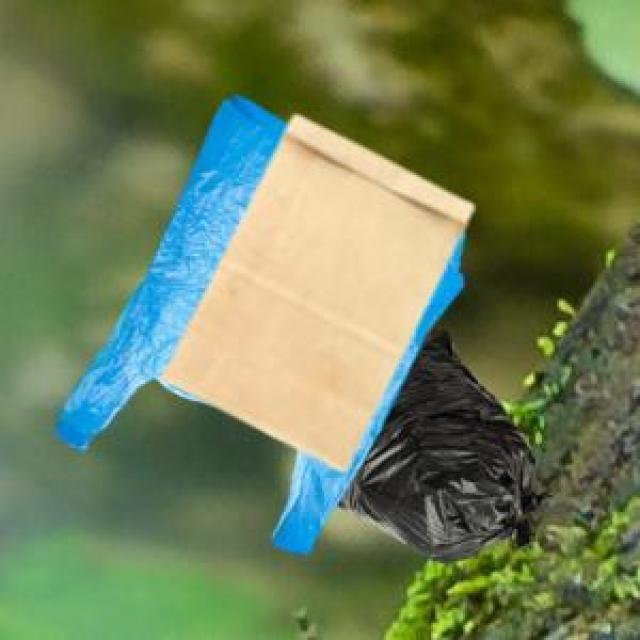miscellaneous trash: (333, 326, 548, 559)
paper: (160, 111, 469, 467)
